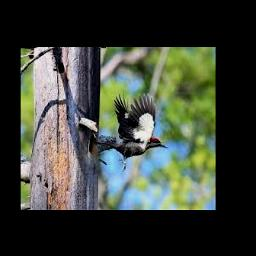Woodpecker: (94, 93, 169, 171)
